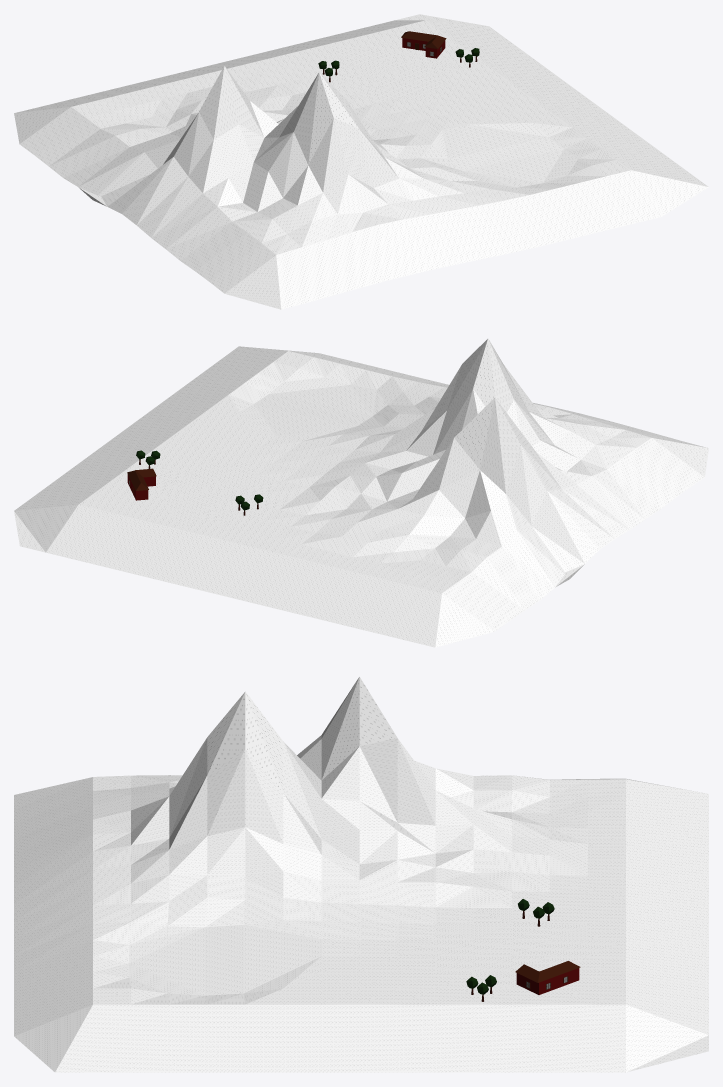
The model's file is world.obj.
The picture shows the model from 3 angles, top to bottom: view 1: azimuth 30°, elevation 25°; view 2: azimuth 150°, elevation 25°; view 3: azimuth 270°, elevation 25°; orthographic projection. The views are drawn at different scales.
Visible parts, largest first — view 1: Plane_Plane.001, Plane.001; view 2: Plane_Plane.001, Plane.001; view 3: Plane_Plane.001, Plane.001.
Part boxes in pixels (x1,y1,x2,y2): Plane_Plane.001: (14, 14, 708, 309); Plane.001: (401, 31, 446, 58); Plane_Plane.001: (14, 338, 708, 647); Plane.001: (127, 468, 156, 500); Plane_Plane.001: (14, 677, 708, 1072); Plane.001: (515, 961, 580, 994).
Size of the model in its own units: 324 by 95.13 by 319.
Materials: 12 (5 with a texture image).
